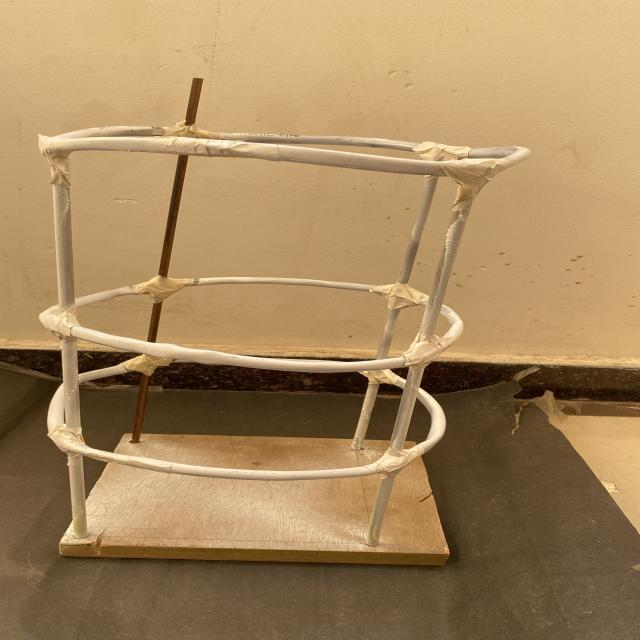silo: (19, 84, 505, 572)
